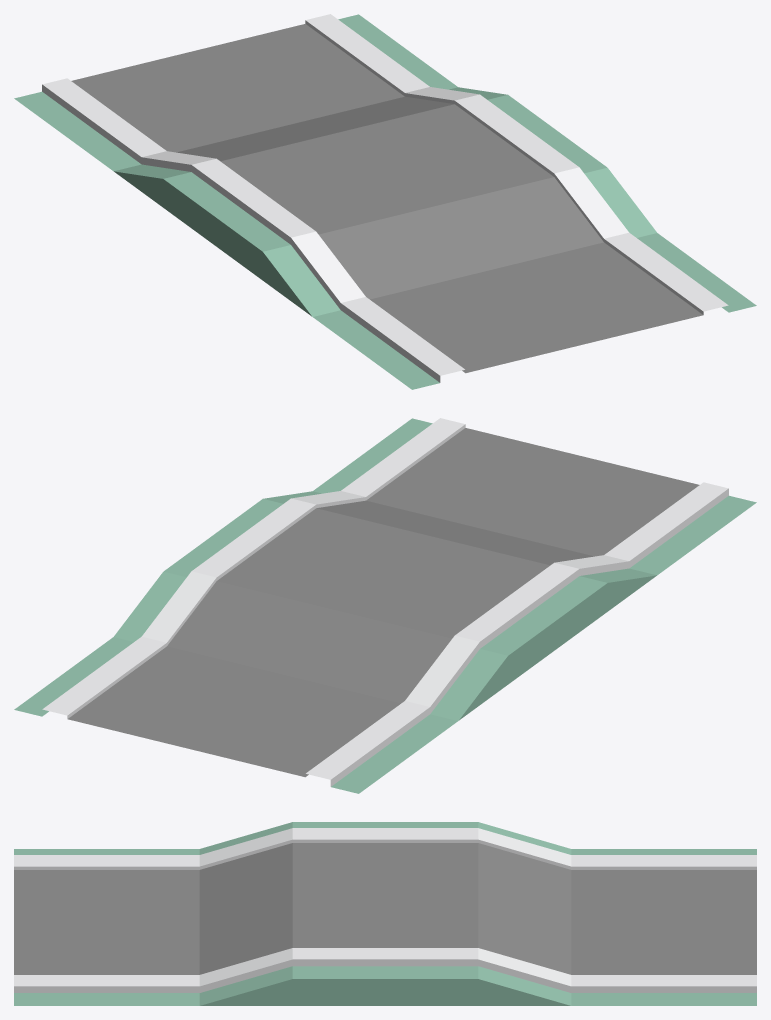
The model's file is roadBump.glb.
3 renders of one model, top to bottom at view 1: azimuth 30°, elevation 25°; view 2: azimuth 150°, elevation 25°; view 3: azimuth 270°, elevation 25°, orthographic. The views are drawn at different scales.
Parts seen in each view (by area): view 1: roadBump(Clone); view 2: roadBump(Clone); view 3: roadBump(Clone).
Boxes of the visible parts, x1=… form: roadBump(Clone): x1=14, y1=14, x2=756, y2=389; roadBump(Clone): x1=14, y1=418, x2=756, y2=793; roadBump(Clone): x1=14, y1=822, x2=756, y2=1005.
Bounding box in the file's own units: 1 × 0.1 × 2.
